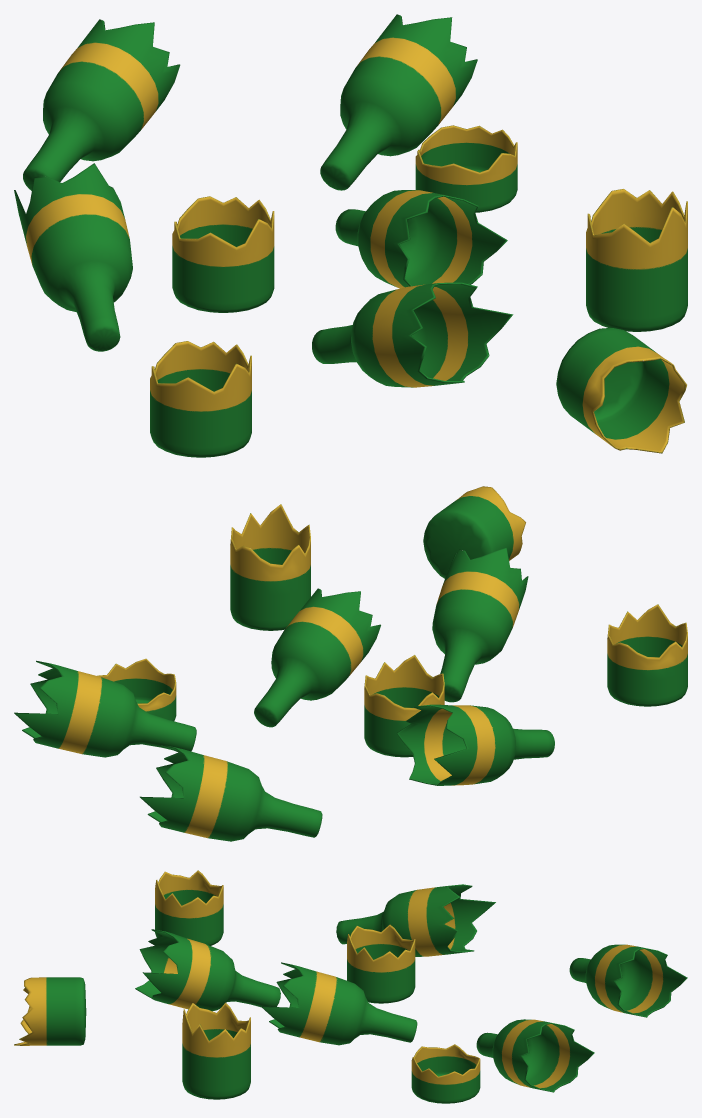
The model's file is broken-bottle 1.fbx.
3 renders of one model, top to bottom at view 1: azimuth 30°, elevation 25°; view 2: azimuth 150°, elevation 25°; view 3: azimuth 270°, elevation 25°, orthographic. The views are drawn at different scales.
Visible parts, largest first — view 1: Cylinder; view 2: Cylinder; view 3: Cylinder.
Part boxes in pixels (<box>): Cylinder: <box>14,14,687,457</box>; Cylinder: <box>14,486,687,841</box>; Cylinder: <box>14,870,687,1103</box>.
Size of the model in its own units: 149 by 33.64 by 225.
10 materials, 10 textured.
